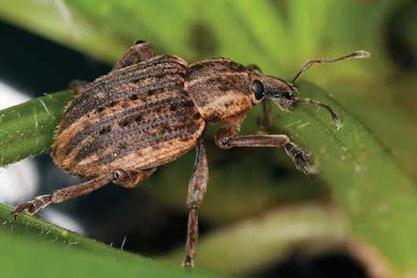weevils: (0, 16, 396, 278)
